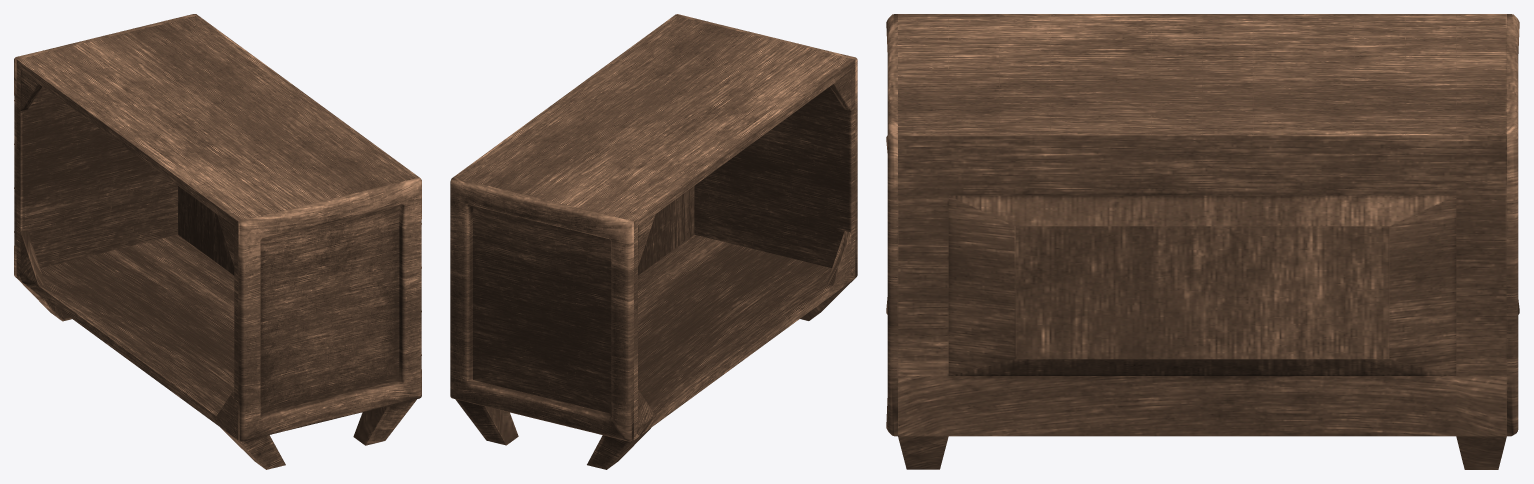
The model's file is table1 (1).fbx.
The picture shows the model from 3 angles, left to right: view 1: azimuth 30°, elevation 25°; view 2: azimuth 150°, elevation 25°; view 3: azimuth 270°, elevation 25°; orthographic projection. The views are drawn at different scales.
Parts seen in each view (by area): view 1: Cube.055; view 2: Cube.055; view 3: Cube.055.
Boxes of the visible parts, bbox=[...] form: Cube.055: bbox=[14, 14, 421, 469]; Cube.055: bbox=[450, 14, 857, 469]; Cube.055: bbox=[886, 14, 1519, 469].
Bounding box in the file's own units: 62.8 × 80.87 × 131.
Materials: 1 (1 with a texture image).
